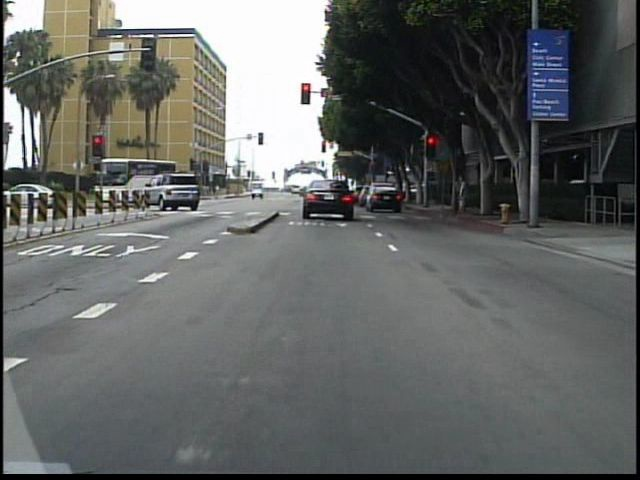person: (456, 169, 474, 216)
